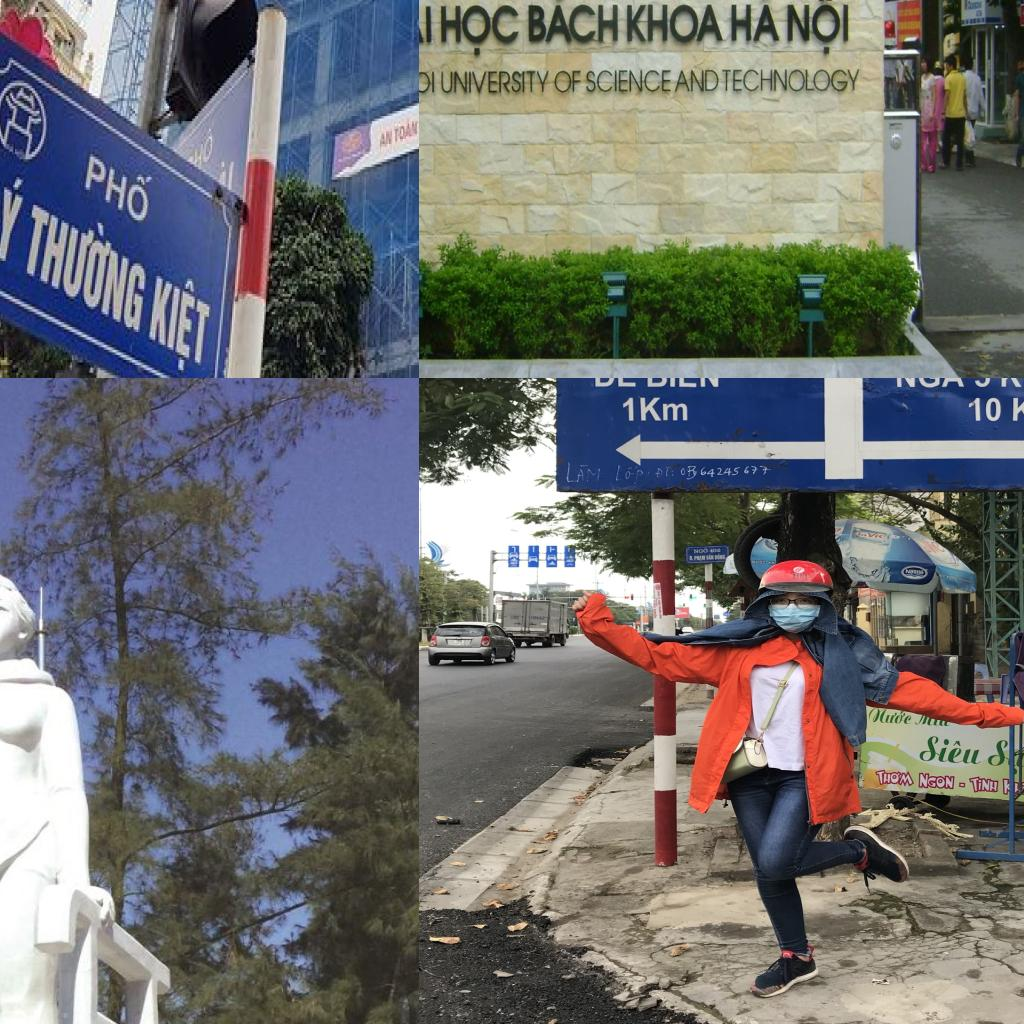text: (21, 187, 149, 337), (144, 260, 215, 378), (80, 144, 158, 233), (438, 0, 522, 58), (526, 0, 620, 46), (625, 2, 725, 44), (785, 0, 852, 57), (0, 156, 32, 273), (722, 68, 862, 93), (440, 69, 551, 95), (915, 733, 987, 769), (585, 68, 674, 95), (678, 460, 776, 484), (728, 0, 781, 43), (621, 396, 694, 426), (965, 394, 1024, 426), (183, 124, 215, 172), (673, 68, 720, 94), (561, 458, 606, 484), (610, 461, 652, 486), (867, 706, 917, 726), (870, 767, 917, 788), (644, 378, 722, 390), (419, 3, 435, 59), (916, 770, 956, 792), (889, 378, 966, 389), (394, 116, 419, 146), (915, 534, 949, 556), (553, 70, 582, 95), (967, 775, 999, 794), (589, 378, 639, 389), (419, 68, 436, 96), (654, 462, 675, 482), (854, 528, 889, 540), (73, 0, 99, 12), (380, 129, 394, 149), (972, 378, 994, 388), (790, 572, 810, 580), (905, 568, 925, 576), (751, 558, 767, 566), (692, 547, 708, 554), (958, 780, 968, 789), (715, 553, 726, 561), (530, 615, 547, 620), (694, 555, 706, 561), (710, 548, 722, 553), (767, 560, 777, 565), (976, 10, 983, 17), (706, 554, 714, 560), (939, 572, 947, 578), (688, 555, 694, 561)
